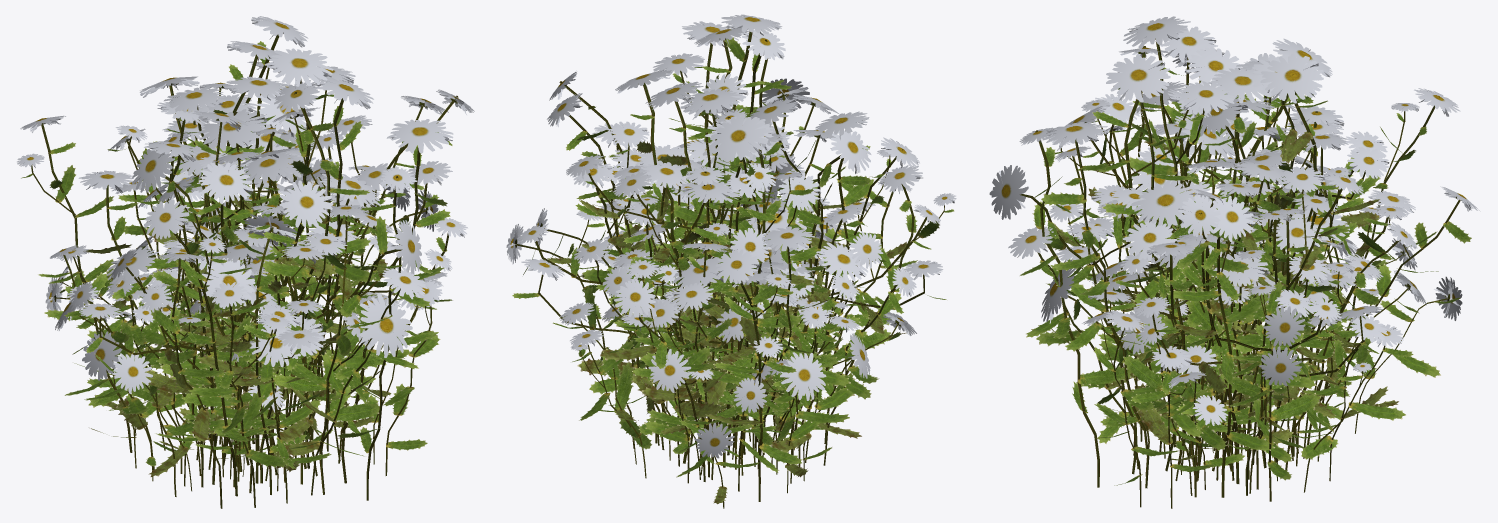
Rendered from farm-flowers.glb.
The picture shows the model from 3 angles, left to right: view 1: azimuth 30°, elevation 25°; view 2: azimuth 150°, elevation 25°; view 3: azimuth 270°, elevation 25°; orthographic projection. The views are drawn at different scales.
Visible parts, largest first — view 1: Daisy_patch_big_2_LOD0_Daisy_main_mat_0, Daisy_patch_big_3_LOD0_Daisy_main_mat_0, Daisy_patch_big_1_LOD0_Daisy_main_mat_0, Daisy_patch_small_1_LOD0_Daisy_main_mat_0, Daisy_patch_small_3_LOD0_Daisy_main_mat_0, Daisy_patch_small_2_LOD0_Daisy_main_mat_0, Daisy_1_LOD0_Daisy_main_mat_0, Daisy_2_LOD0_Daisy_main_mat_0, Daisy_3_LOD0_Daisy_main_mat_0; view 2: Daisy_patch_big_1_LOD0_Daisy_main_mat_0, Daisy_patch_big_2_LOD0_Daisy_main_mat_0, Daisy_patch_big_3_LOD0_Daisy_main_mat_0, Daisy_patch_small_1_LOD0_Daisy_main_mat_0, Daisy_patch_small_2_LOD0_Daisy_main_mat_0, Daisy_patch_small_3_LOD0_Daisy_main_mat_0, Daisy_2_LOD0_Daisy_main_mat_0, Daisy_1_LOD0_Daisy_main_mat_0, Daisy_3_LOD0_Daisy_main_mat_0; view 3: Daisy_patch_big_2_LOD0_Daisy_main_mat_0, Daisy_patch_big_1_LOD0_Daisy_main_mat_0, Daisy_patch_big_3_LOD0_Daisy_main_mat_0, Daisy_patch_small_2_LOD0_Daisy_main_mat_0, Daisy_patch_small_1_LOD0_Daisy_main_mat_0, Daisy_patch_small_3_LOD0_Daisy_main_mat_0, Daisy_2_LOD0_Daisy_main_mat_0, Daisy_3_LOD0_Daisy_main_mat_0, Daisy_1_LOD0_Daisy_main_mat_0.
Boxes of the visible parts, x1=… form: Daisy_patch_big_2_LOD0_Daisy_main_mat_0: x1=108, y1=77, x2=453, y2=507; Daisy_patch_big_3_LOD0_Daisy_main_mat_0: x1=38, y1=76, x2=467, y2=508; Daisy_patch_big_1_LOD0_Daisy_main_mat_0: x1=17, y1=16, x2=474, y2=495; Daisy_patch_small_1_LOD0_Daisy_main_mat_0: x1=78, y1=48, x2=355, y2=483; Daisy_patch_small_3_LOD0_Daisy_main_mat_0: x1=94, y1=41, x2=410, y2=496; Daisy_patch_small_2_LOD0_Daisy_main_mat_0: x1=106, y1=80, x2=404, y2=487; Daisy_1_LOD0_Daisy_main_mat_0: x1=137, y1=109, x2=282, y2=475; Daisy_2_LOD0_Daisy_main_mat_0: x1=139, y1=94, x2=396, y2=465; Daisy_3_LOD0_Daisy_main_mat_0: x1=146, y1=124, x2=349, y2=477; Daisy_patch_big_1_LOD0_Daisy_main_mat_0: x1=506, y1=70, x2=946, y2=508; Daisy_patch_big_2_LOD0_Daisy_main_mat_0: x1=512, y1=21, x2=940, y2=481; Daisy_patch_big_3_LOD0_Daisy_main_mat_0: x1=547, y1=88, x2=956, y2=491; Daisy_patch_small_1_LOD0_Daisy_main_mat_0: x1=567, y1=14, x2=838, y2=473; Daisy_patch_small_2_LOD0_Daisy_main_mat_0: x1=602, y1=30, x2=871, y2=477; Daisy_patch_small_3_LOD0_Daisy_main_mat_0: x1=534, y1=81, x2=919, y2=479; Daisy_2_LOD0_Daisy_main_mat_0: x1=639, y1=108, x2=800, y2=459; Daisy_1_LOD0_Daisy_main_mat_0: x1=613, y1=119, x2=805, y2=463; Daisy_3_LOD0_Daisy_main_mat_0: x1=639, y1=159, x2=816, y2=459; Daisy_patch_big_2_LOD0_Daisy_main_mat_0: x1=989, y1=46, x2=1480, y2=508; Daisy_patch_big_1_LOD0_Daisy_main_mat_0: x1=1008, y1=26, x2=1462, y2=501; Daisy_patch_big_3_LOD0_Daisy_main_mat_0: x1=1041, y1=67, x2=1426, y2=497; Daisy_patch_small_2_LOD0_Daisy_main_mat_0: x1=1092, y1=46, x2=1380, y2=489; Daisy_patch_small_1_LOD0_Daisy_main_mat_0: x1=1065, y1=16, x2=1415, y2=493; Daisy_patch_small_3_LOD0_Daisy_main_mat_0: x1=1081, y1=54, x2=1387, y2=489; Daisy_2_LOD0_Daisy_main_mat_0: x1=1115, y1=108, x2=1349, y2=464; Daisy_3_LOD0_Daisy_main_mat_0: x1=1159, y1=148, x2=1309, y2=452; Daisy_1_LOD0_Daisy_main_mat_0: x1=1141, y1=100, x2=1331, y2=451.
Bounding box in the file's own units: 0.7076 × 0.7188 × 0.7298.
Materials: 1 (1 with a texture image).
